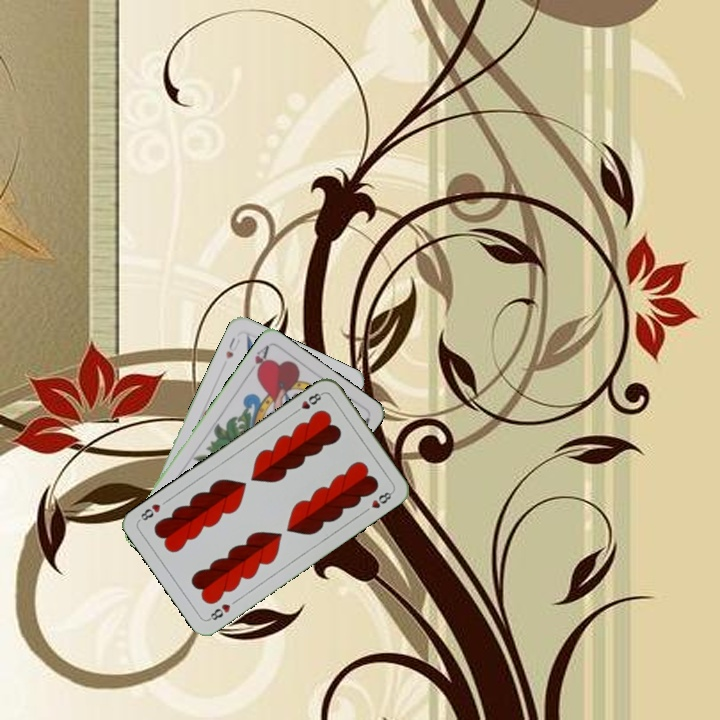H8: (290, 389, 326, 416), (204, 600, 233, 623)
HA: (244, 341, 271, 379)
HU: (221, 333, 243, 362)
